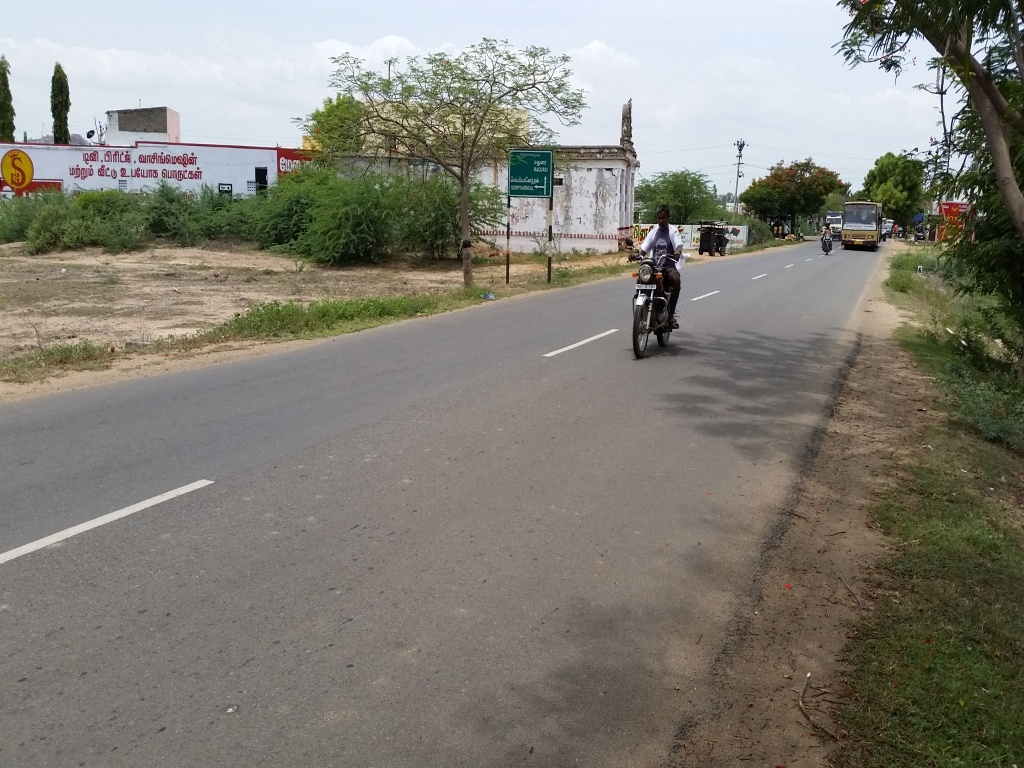biker: (608, 182, 703, 369)
nohelmet: (652, 201, 676, 237)
